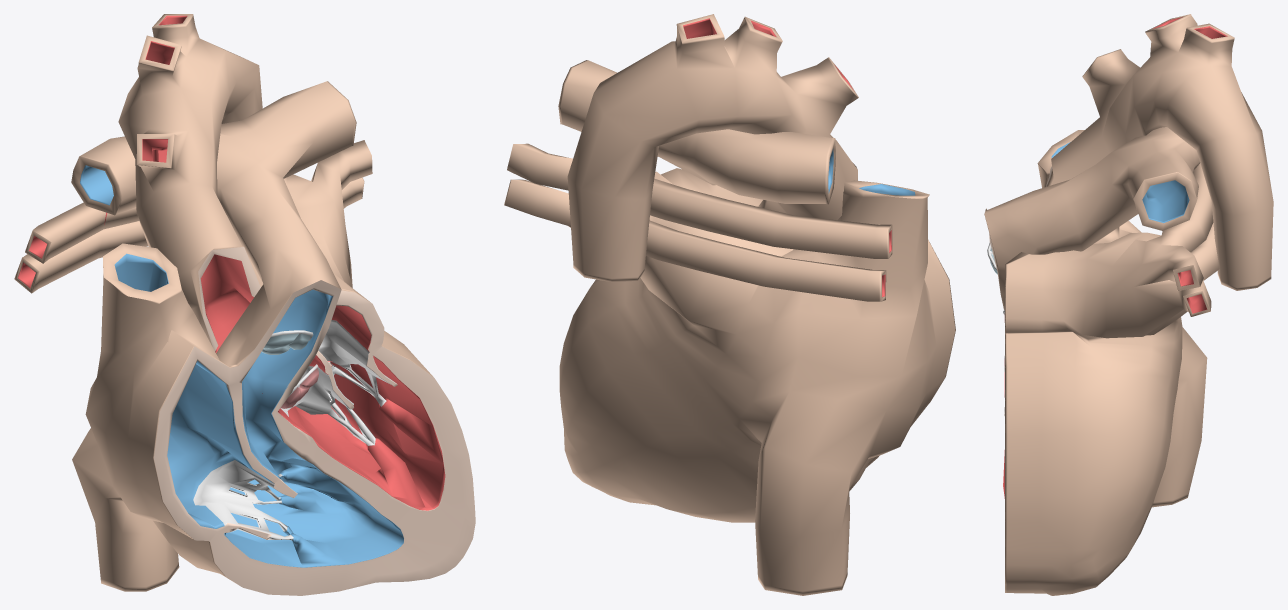
Rendered from new heart modified.fbx.
The picture shows the model from 3 angles, left to right: view 1: azimuth 30°, elevation 25°; view 2: azimuth 150°, elevation 25°; view 3: azimuth 270°, elevation 25°; orthographic projection. The views are drawn at different scales.
Parts seen in each view (by area): view 1: Heart_XSection; view 2: Heart_XSection; view 3: Heart_XSection.
Boxes of the visible parts, x1=… form: Heart_XSection: x1=14, y1=14, x2=475, y2=595; Heart_XSection: x1=504, y1=14, x2=955, y2=595; Heart_XSection: x1=984, y1=14, x2=1273, y2=595.
Bounding box in the file's own units: 68.37 × 95.31 × 50.32.
